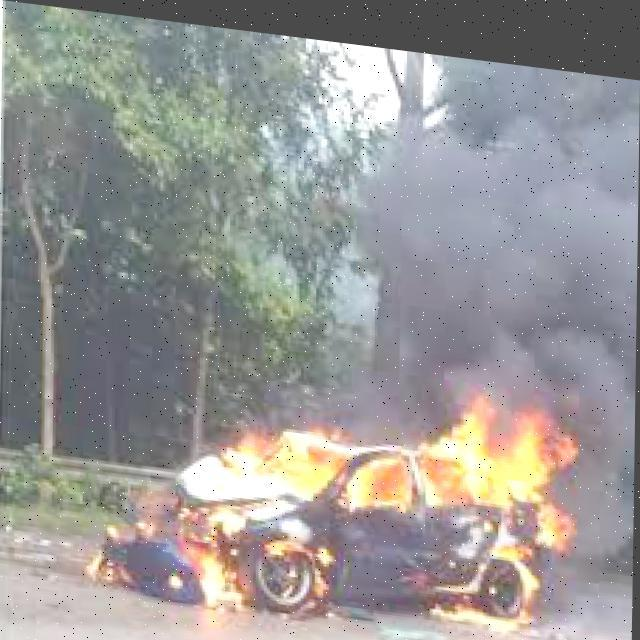Fire: (213, 385, 428, 513), (86, 459, 264, 609), (428, 476, 593, 628), (422, 376, 580, 502)
